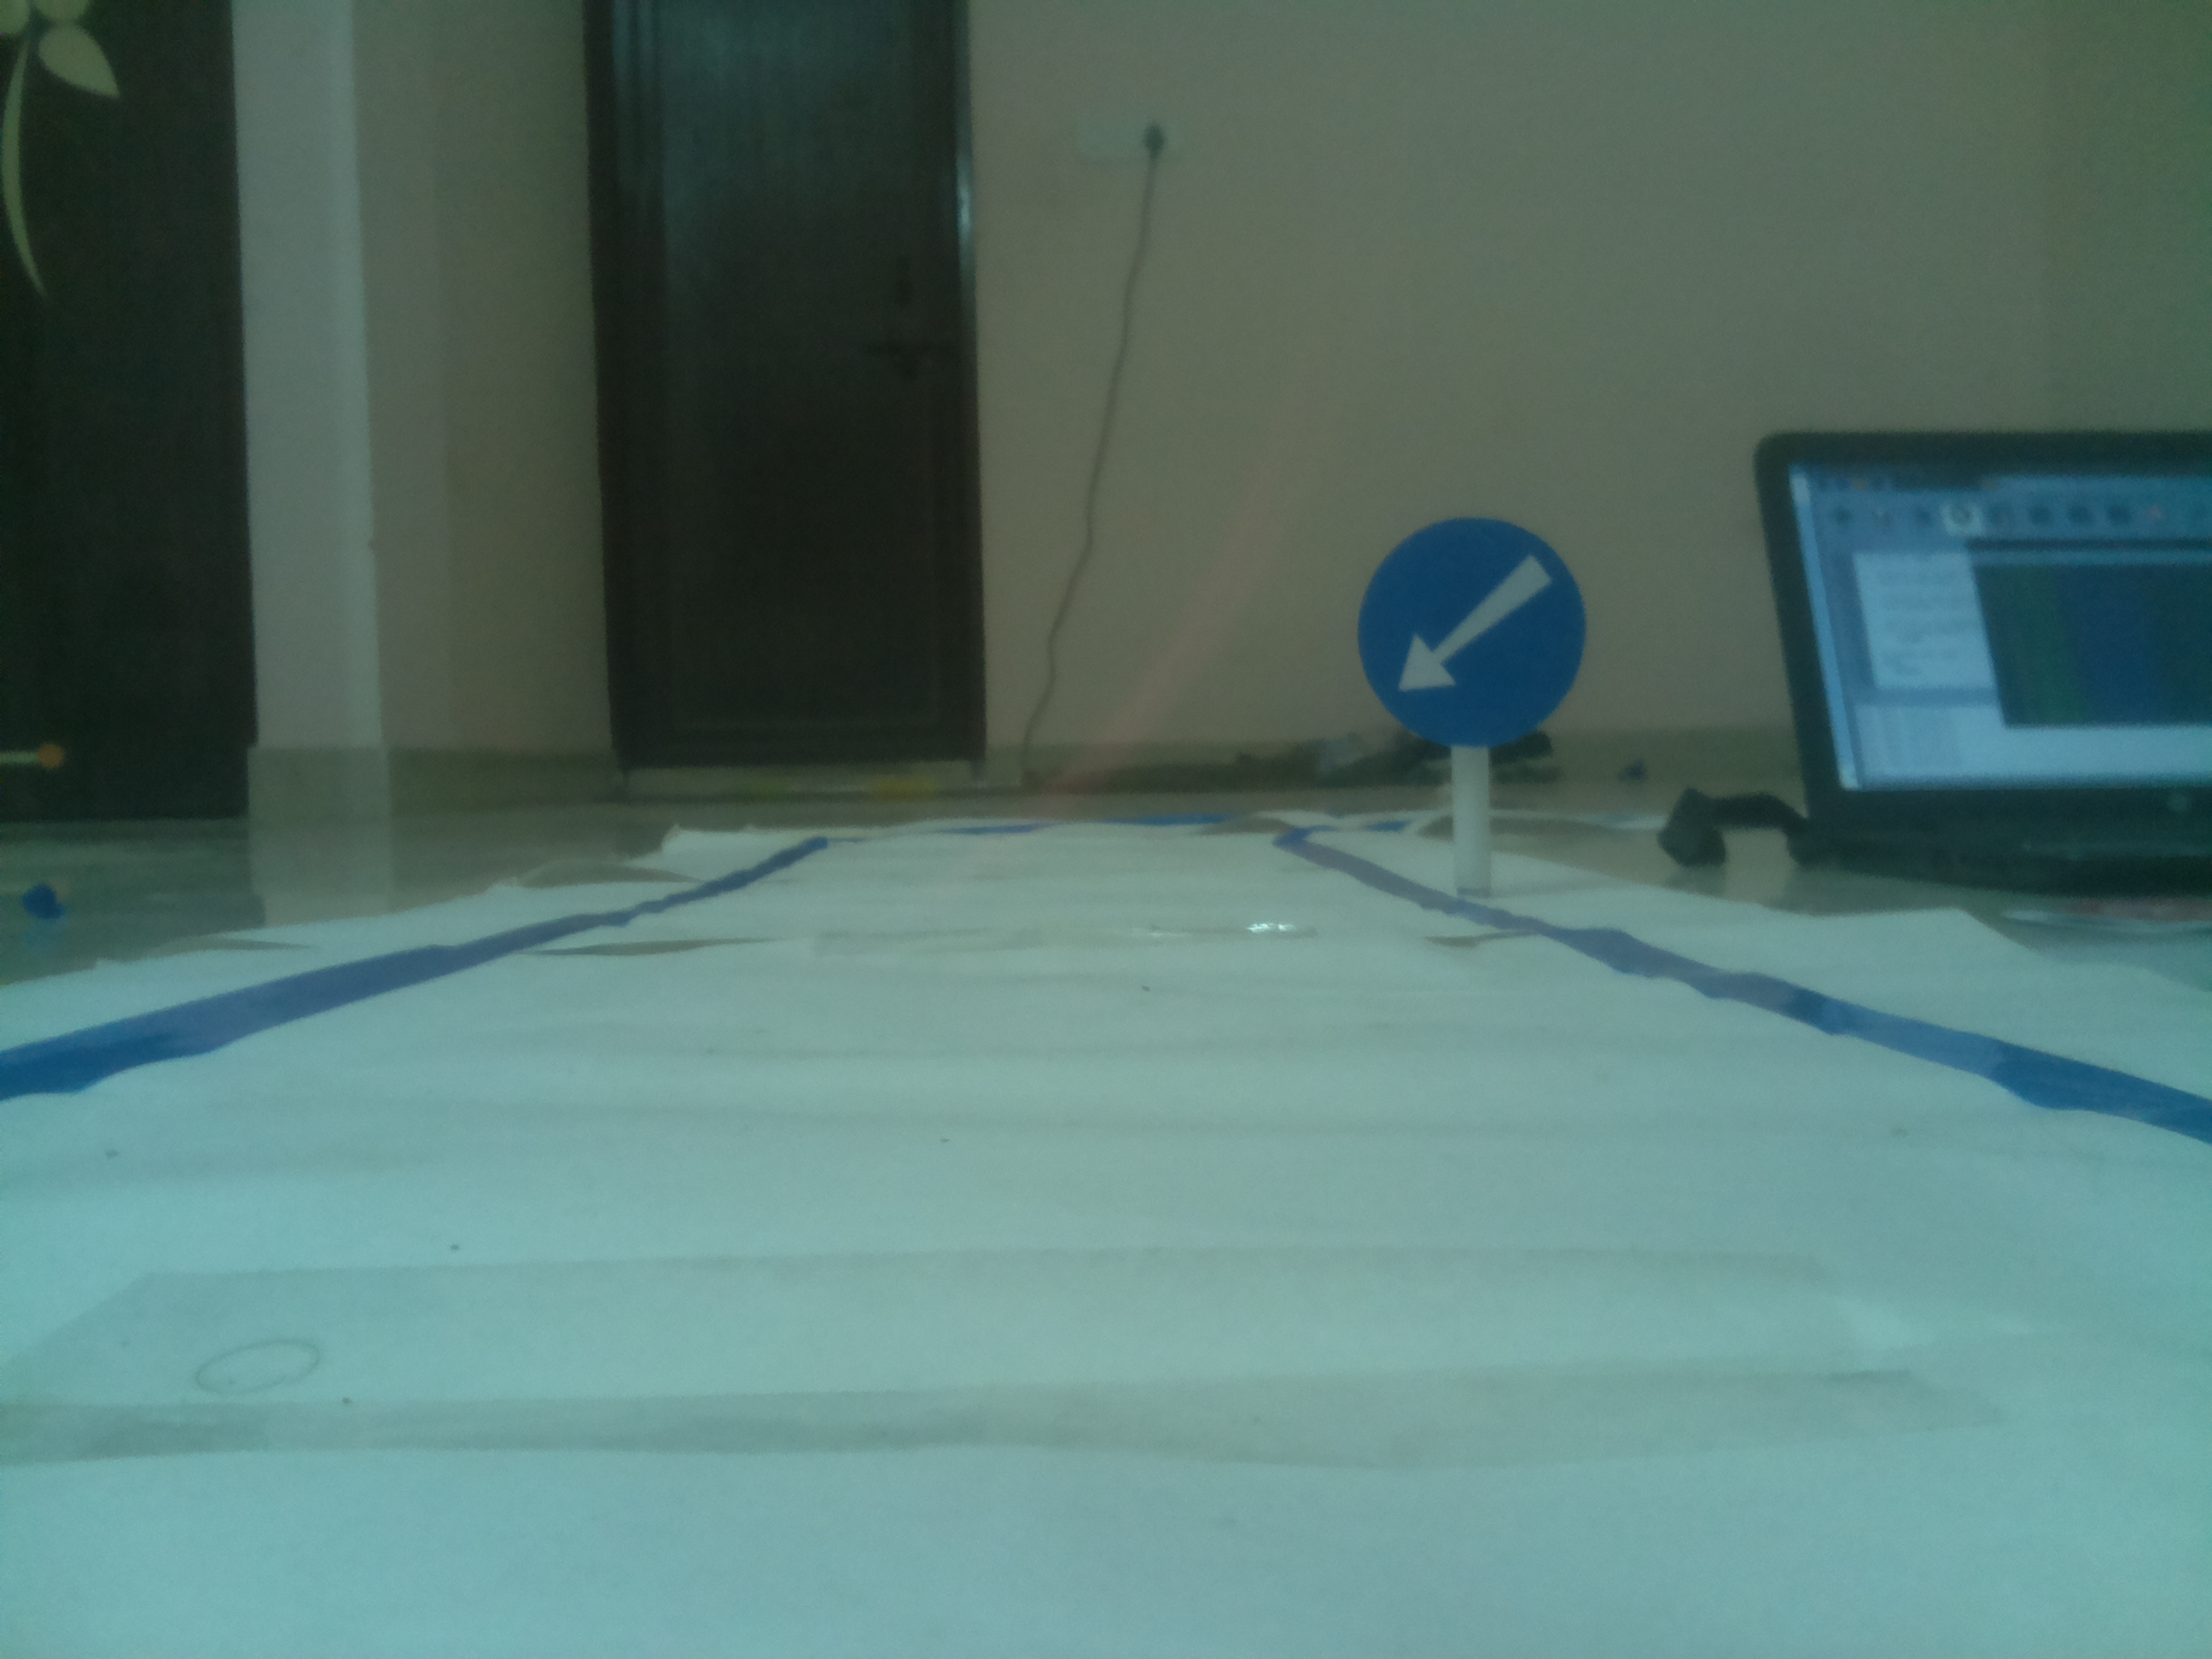keep-left: (1345, 516, 1592, 749)
